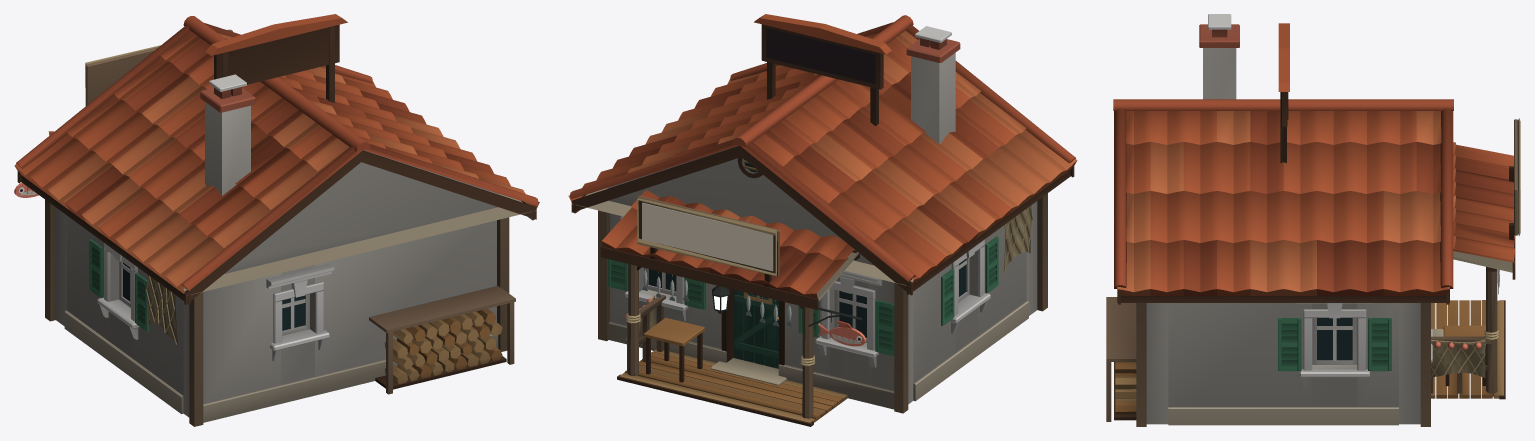
The picture shows the model from 3 angles, left to right: view 1: azimuth 30°, elevation 25°; view 2: azimuth 150°, elevation 25°; view 3: azimuth 270°, elevation 25°; orthographic projection. The views are drawn at different scales.
Visible parts, largest first — view 1: static_semyon; view 2: static_semyon; view 3: static_semyon.
Part boxes in pixels (x1,y1,x2,y2): static_semyon: (14, 14, 539, 426); static_semyon: (568, 14, 1077, 426); static_semyon: (1106, 14, 1520, 426).
Bounding box in the file's own units: 6.34 × 5.22 × 6.47.
